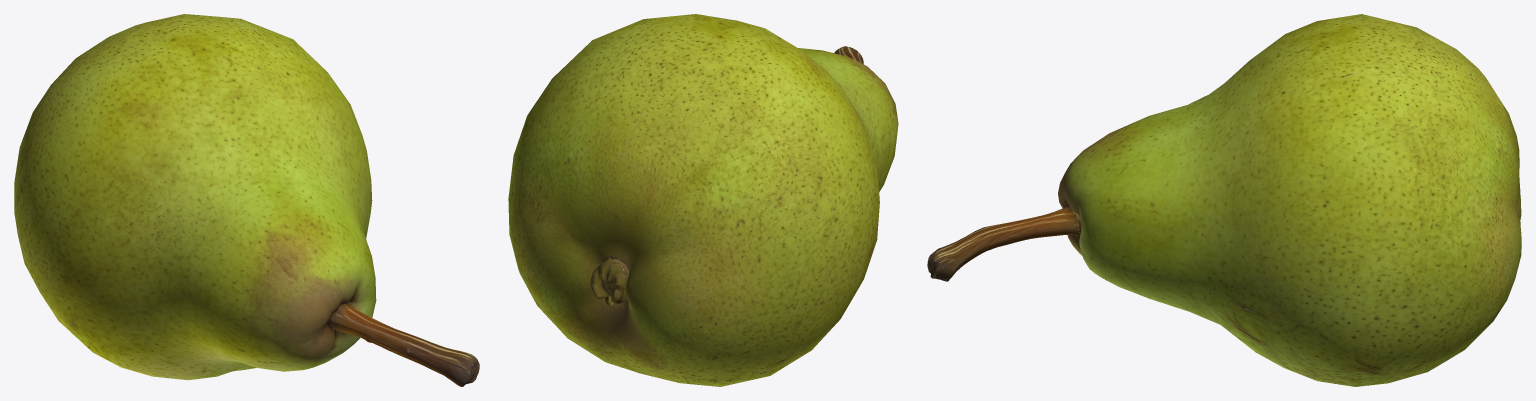
The model's file is pear.obj.
3 views of the same model, side by side, from view 1: azimuth 30°, elevation 25°; view 2: azimuth 150°, elevation 25°; view 3: azimuth 270°, elevation 25° (orthographic). The views are drawn at different scales.
Parts seen in each view (by area): view 1: pear; view 2: pear; view 3: pear.
Boxes of the visible parts, x1=… form: pear: x1=14, y1=14, x2=479, y2=386; pear: x1=508, y1=14, x2=898, y2=386; pear: x1=927, y1=14, x2=1521, y2=386.
Bounding box in the file's own units: 0.0475 × 0.0472 × 0.0771.
Materials: 1 (1 with a texture image).
